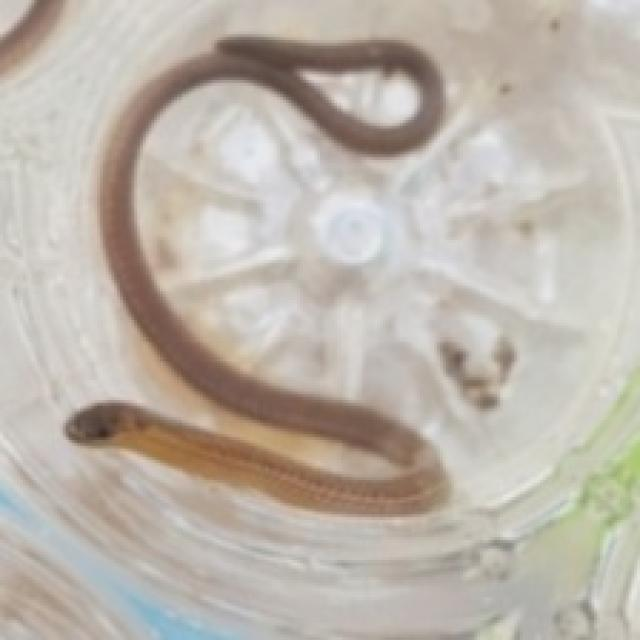gervais worm snake: (66, 37, 446, 511)
